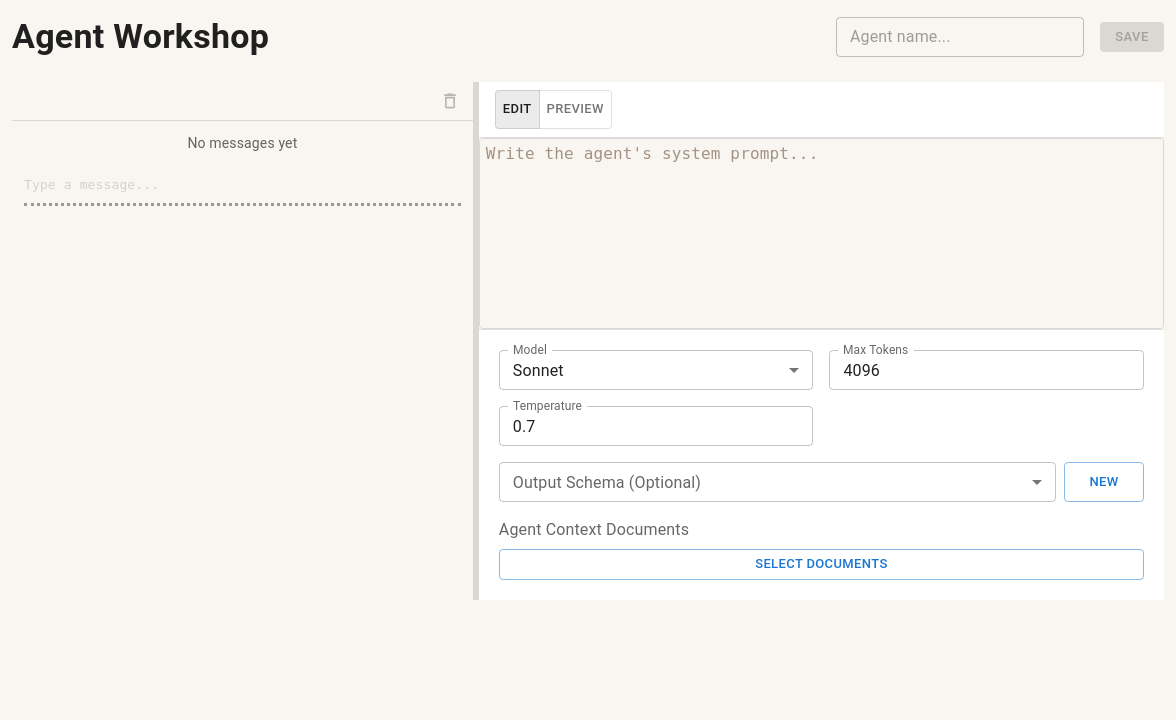
it: AgentWorkshopPage › displays error on save failure
Type "MyAgent" into the field with placeholder "Agent name...". click: coordinates (960, 37)
box: [836, 17, 1084, 57]
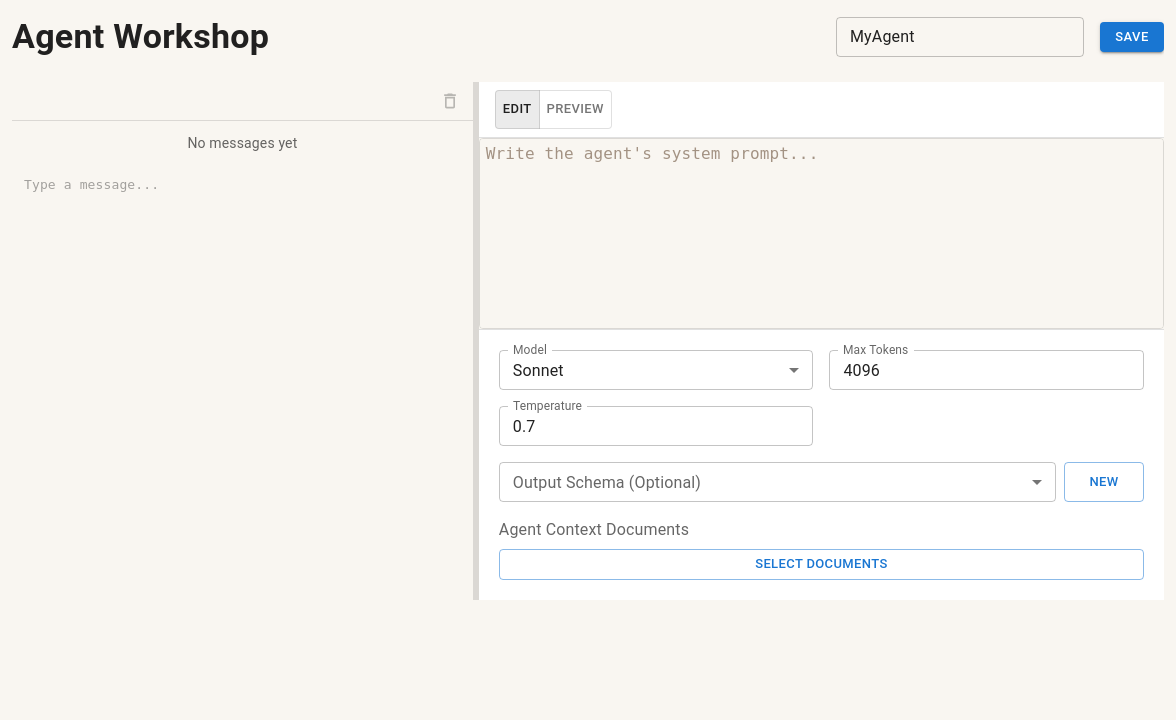
Click the button "Save". click: coordinates (1132, 37)
box: [1100, 22, 1164, 52]
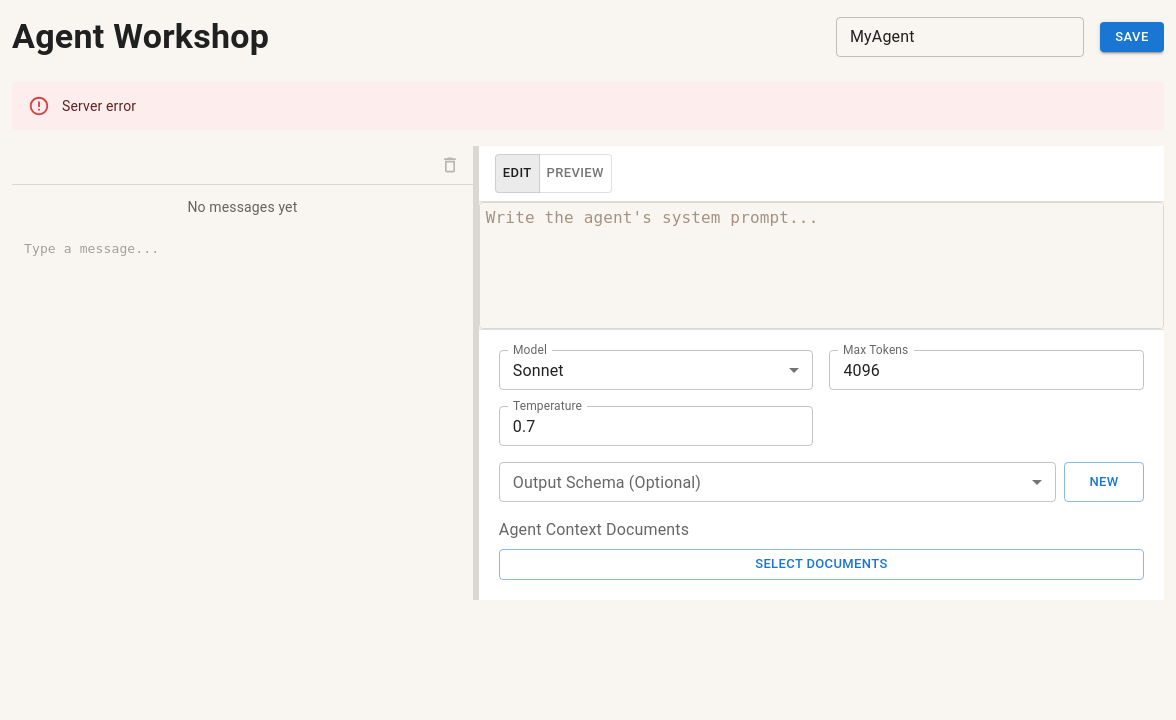
Now the text "Server error" is shown, box [62, 98, 136, 114]
